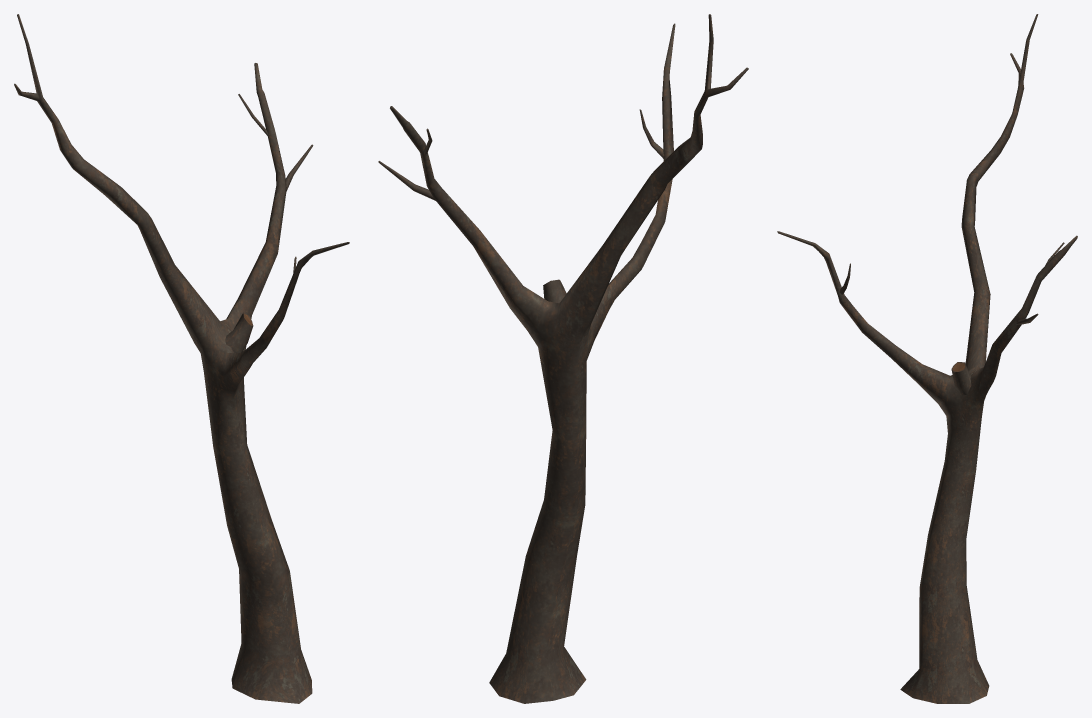
Rendered from sb_obj_nature013_DryTree_A.fbx.
3 renders of one model, left to right at view 1: azimuth 30°, elevation 25°; view 2: azimuth 150°, elevation 25°; view 3: azimuth 270°, elevation 25°, orthographic. The views are drawn at different scales.
Visible parts, largest first — view 1: sb_obj_outdoor052_DryTree_A; view 2: sb_obj_outdoor052_DryTree_A; view 3: sb_obj_outdoor052_DryTree_A.
Boxes of the visible parts, x1,y1,x2,y2 form: sb_obj_outdoor052_DryTree_A: (14,14,349,703); sb_obj_outdoor052_DryTree_A: (378,14,748,703); sb_obj_outdoor052_DryTree_A: (777,14,1077,703).
Bounding box in the file's own units: 1.48 × 3.06 × 1.42.
Materials: 1 (1 with a texture image).
